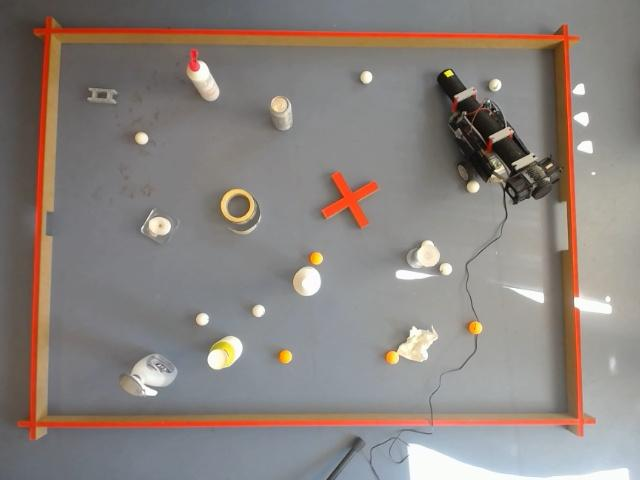orange: (277, 349, 294, 365), (384, 349, 400, 366), (309, 251, 324, 267), (468, 320, 482, 335)
robot: (436, 69, 561, 205)
robot-front: (438, 69, 464, 98)
white: (132, 131, 150, 148), (358, 70, 375, 87), (193, 312, 210, 328), (250, 303, 266, 319), (467, 181, 480, 193), (440, 263, 452, 275), (490, 79, 501, 91)
